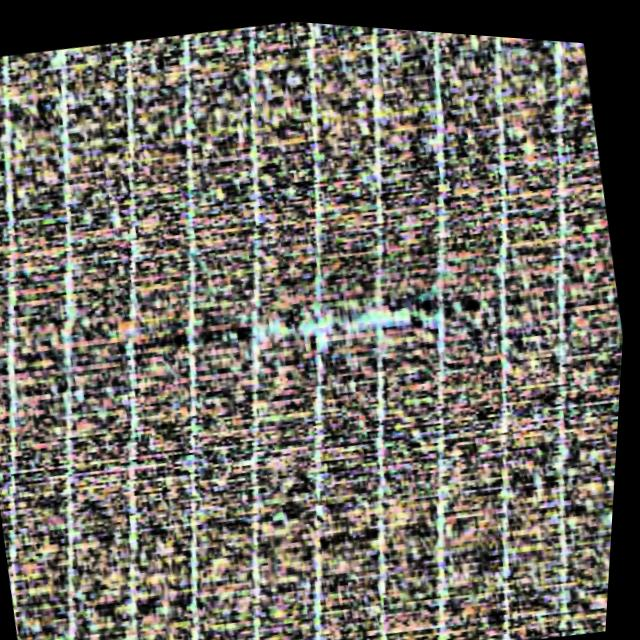Stitch: (213, 253, 462, 384)
